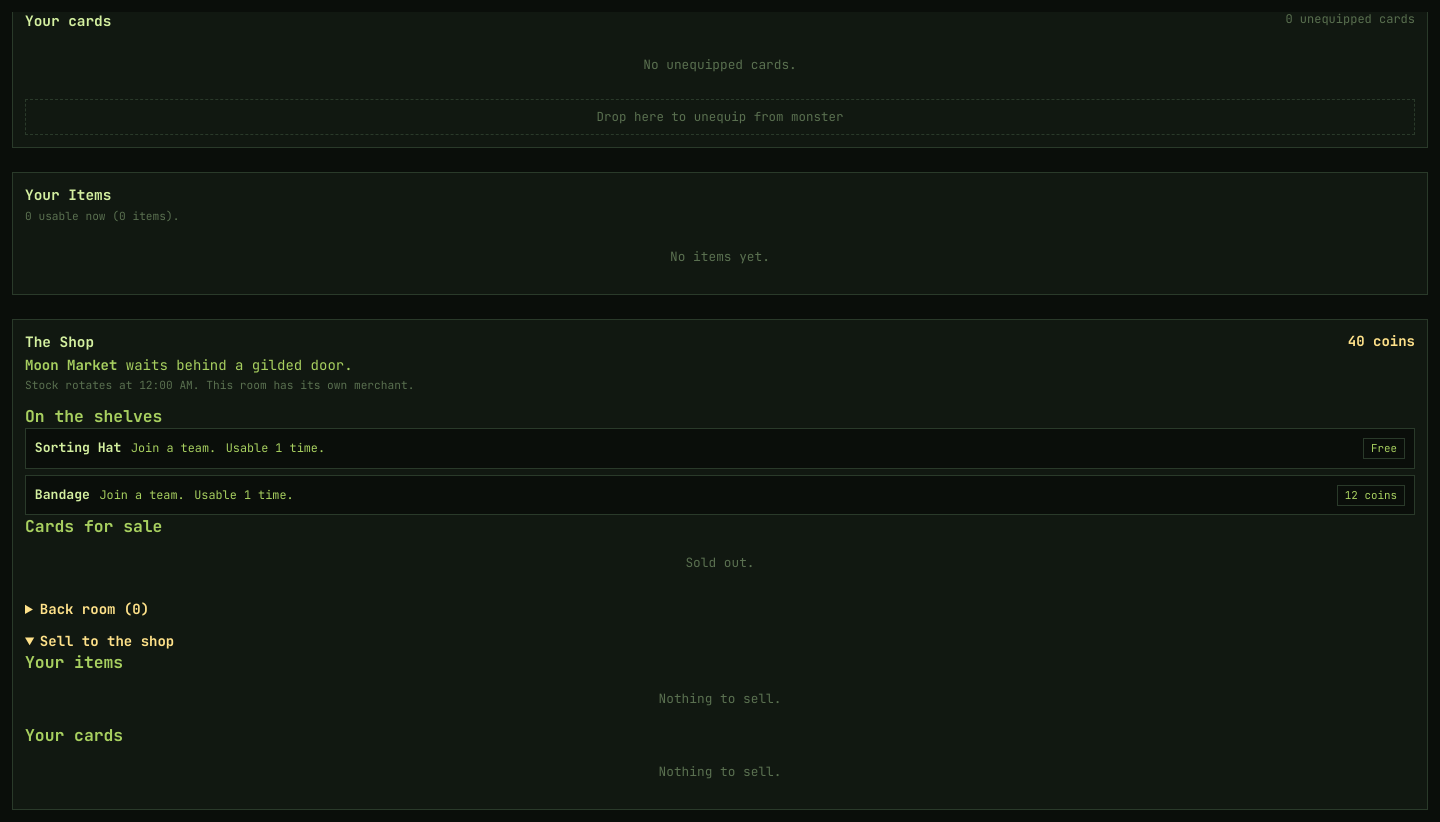
Test: WorkshopPanel: free shop items › asks "Take the ...? It's free." and reports "You took the ... It was free."
(page scrolled)
Click the button "Free".
click(1384, 448)  # box 1363,438 -> 1405,459
(page scrolled)
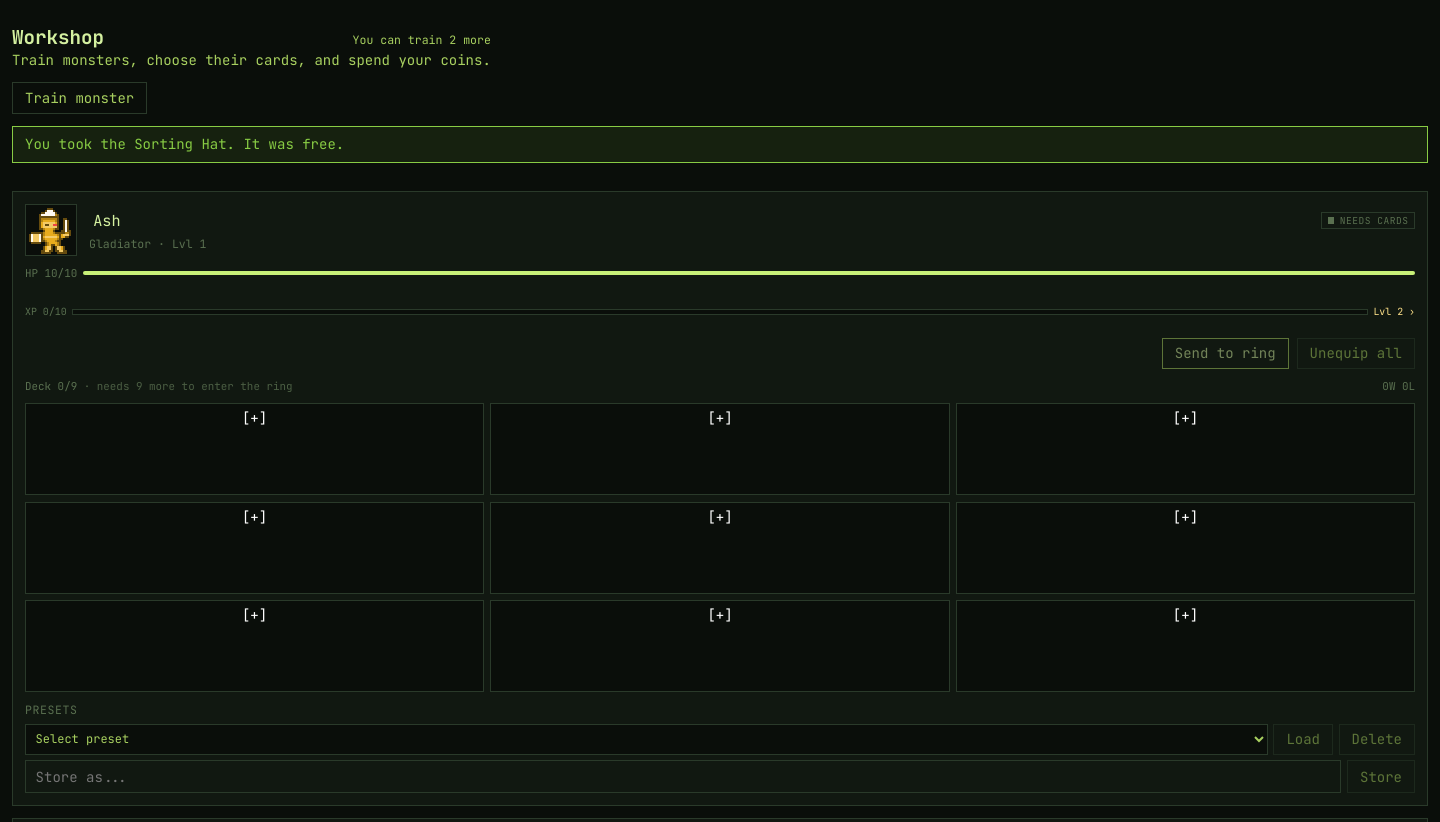
Now the message reads "You took the Sorting Hat. It was free.", box 25,135 -> 344,153
